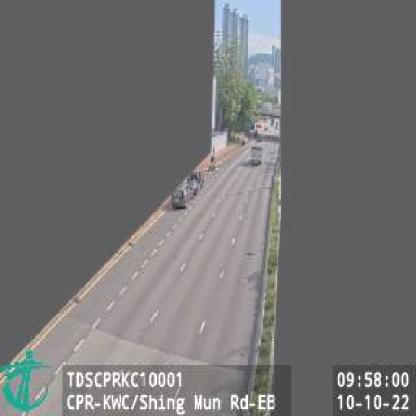Truck: (251, 145, 263, 166)
